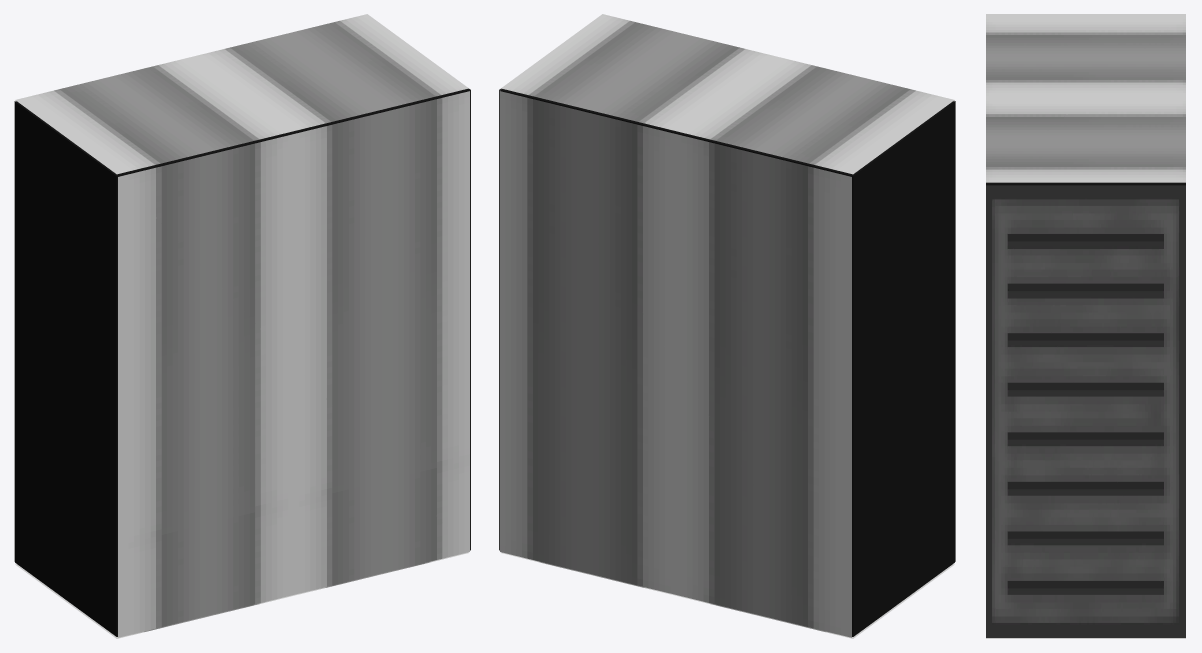
The model's file is modem.obj.
The picture shows the model from 3 angles, left to right: view 1: azimuth 30°, elevation 25°; view 2: azimuth 150°, elevation 25°; view 3: azimuth 270°, elevation 25°; orthographic projection.
Parts seen in each view (by area): view 1: Modem6, Modem1, Modem4, Modem5; view 2: Modem3, Modem1, Modem4, Modem5; view 3: Modem2, Modem4, Modem1.
Boxes of the visible parts, x1,y1,x2,y2 form: Modem6: (118,91,469,637); Modem1: (15,89,468,636); Modem4: (15,14,468,174); Modem5: (15,552,468,638); Modem3: (500,91,851,637); Modem1: (501,89,954,636); Modem4: (501,14,954,174); Modem5: (501,552,954,638); Modem2: (986,185,1185,637); Modem4: (986,14,1185,182); Modem1: (986,182,1185,185).
Bounding box in the file's own units: 4.02 × 5.04 × 2.04.
3 materials, 2 textured.
